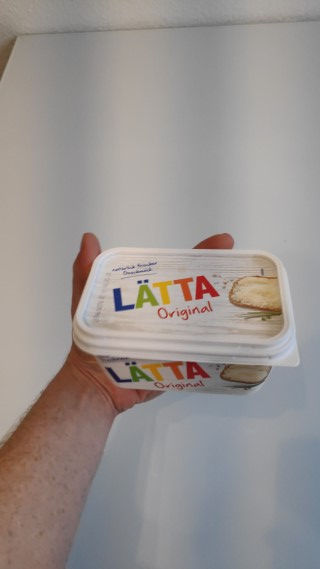laetta: (71, 245, 302, 398)
